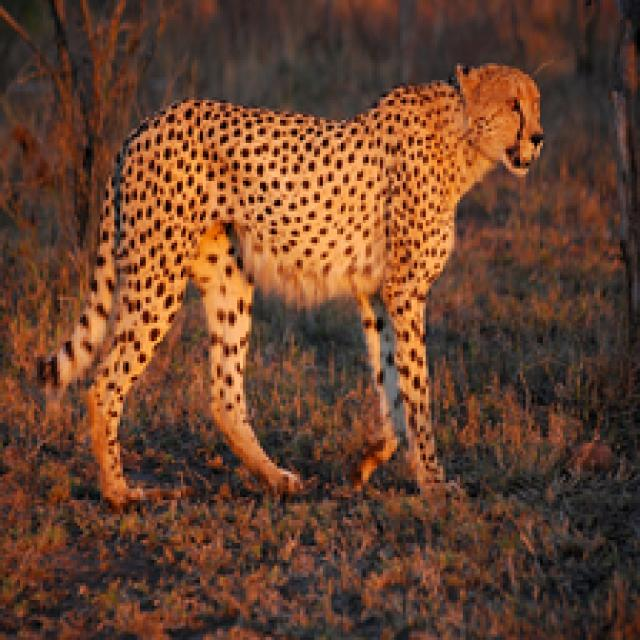cheetah: (26, 57, 540, 640)
